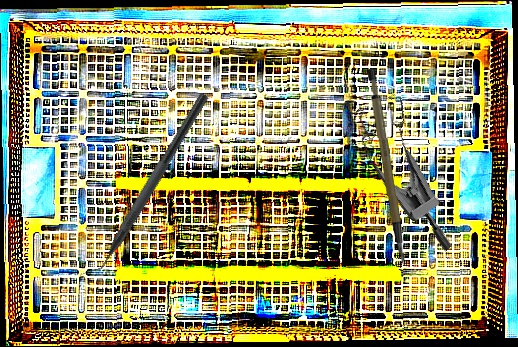Chopper: (77, 84, 210, 288)
Scalpel Handle: (364, 67, 406, 267)
Speculum: (328, 82, 502, 253)
